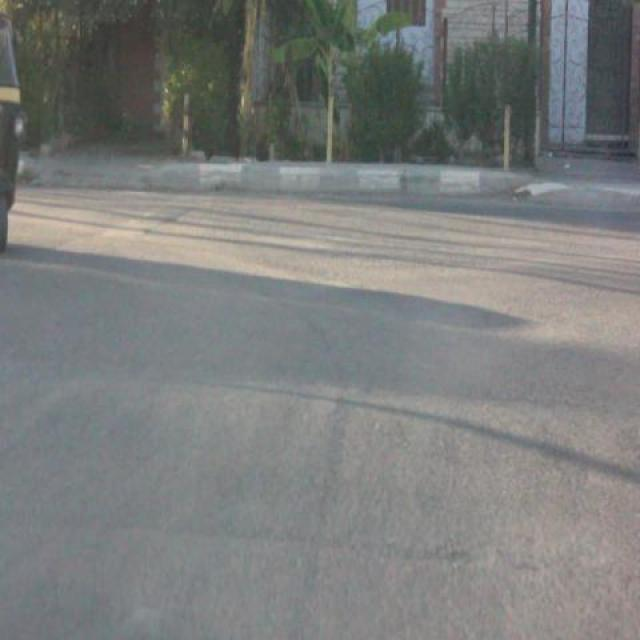Unmarked Bump: (0, 362, 640, 586)
